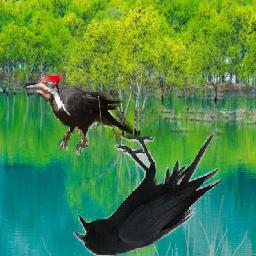Crow: (73, 132, 221, 256)
Woodpecker: (25, 73, 134, 158)
